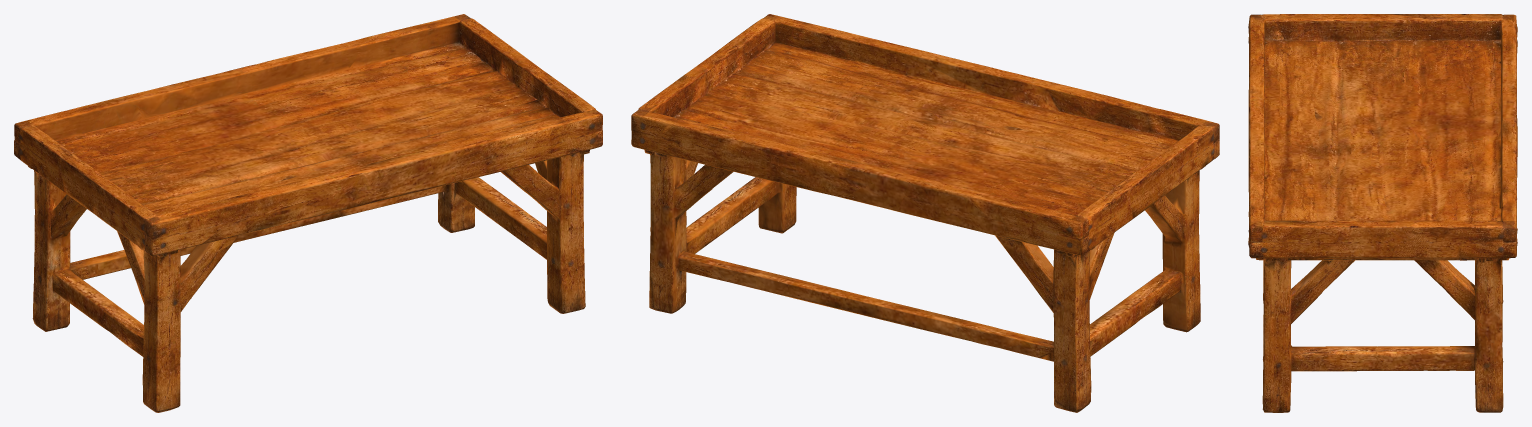
Rendered from rustic-timber-tray-ta.glb.
The picture shows the model from 3 angles, left to right: view 1: azimuth 30°, elevation 25°; view 2: azimuth 150°, elevation 25°; view 3: azimuth 270°, elevation 25°; orthographic projection. The views are drawn at different scales.
Bounding box in the file's own units: 1.9 × 0.7971 × 1.01.
1 material, 1 textured.
